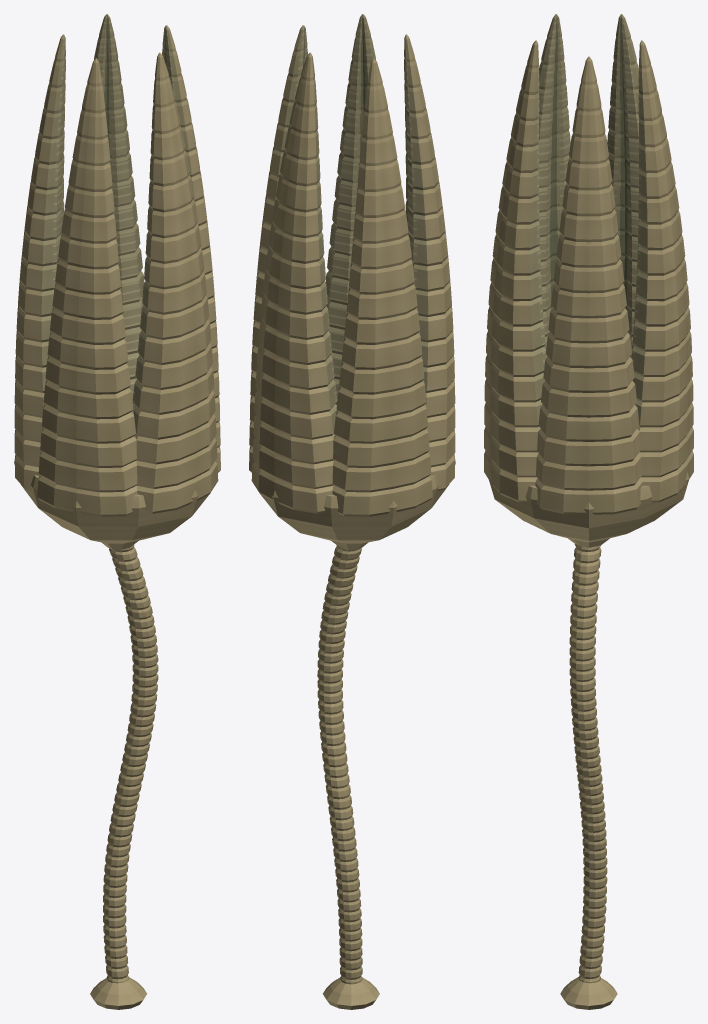
3 renders of one model, left to right at view 1: azimuth 30°, elevation 25°; view 2: azimuth 150°, elevation 25°; view 3: azimuth 270°, elevation 25°, orthographic.
Parts seen in each view (by area): view 1: Arm 4 | massive unbranched serial brachials, Arm 5 | massive unbranched serial brachials, Arm 3 | massive unbranched serial brachials, Articulated modest stalk | distal extent inferred, Arm 2 | massive unbranched serial brachials, Low five-radial calyx, Arm 1 | massive unbranched serial brachials, Inferred simple terminal attachment; view 2: Arm 3 | massive unbranched serial brachials, Arm 2 | massive unbranched serial brachials, Arm 4 | massive unbranched serial brachials, Articulated modest stalk | distal extent inferred, Arm 5 | massive unbranched serial brachials, Low five-radial calyx, Arm 1 | massive unbranched serial brachials, Inferred simple terminal attachment; view 3: Arm 1 | massive unbranched serial brachials, Arm 2 | massive unbranched serial brachials, Arm 5 | massive unbranched serial brachials, Articulated modest stalk | distal extent inferred, Arm 3 | massive unbranched serial brachials, Arm 4 | massive unbranched serial brachials, Low five-radial calyx, Inferred simple terminal attachment.
Part boxes in pixels (x1,y1,x2,y2): Arm 4 | massive unbranched serial brachials: [37, 58, 137, 516]; Arm 5 | massive unbranched serial brachials: [132, 52, 218, 513]; Arm 3 | massive unbranched serial brachials: [14, 34, 65, 490]; Articulated modest stalk | distal extent inferred: [103, 544, 158, 983]; Arm 2 | massive unbranched serial brachials: [94, 14, 144, 405]; Low five-radial calyx: [14, 461, 210, 550]; Arm 1 | massive unbranched serial brachials: [162, 25, 220, 472]; Inferred simple terminal attachment: [90, 977, 146, 1009]; Arm 3 | massive unbranched serial brachials: [332, 58, 432, 516]; Arm 2 | massive unbranched serial brachials: [251, 52, 337, 513]; Arm 4 | massive unbranched serial brachials: [404, 34, 455, 490]; Articulated modest stalk | distal extent inferred: [317, 545, 362, 984]; Arm 5 | massive unbranched serial brachials: [325, 14, 375, 405]; Low five-radial calyx: [259, 461, 455, 550]; Arm 1 | massive unbranched serial brachials: [249, 25, 307, 472]; Inferred simple terminal attachment: [323, 977, 379, 1009]; Arm 1 | massive unbranched serial brachials: [535, 56, 642, 514]; Arm 2 | massive unbranched serial brachials: [631, 40, 693, 502]; Arm 5 | massive unbranched serial brachials: [484, 40, 546, 502]; Articulated modest stalk | distal extent inferred: [569, 544, 607, 983]; Arm 3 | massive unbranched serial brachials: [607, 14, 639, 357]; Arm 4 | massive unbranched serial brachials: [538, 14, 570, 357]; Low five-radial calyx: [488, 472, 689, 547]; Inferred simple terminal attachment: [560, 977, 617, 1009].
Bounding box in the file's own units: 0.1946 × 1 × 0.1969.
Materials: 1 (1 with a texture image).
